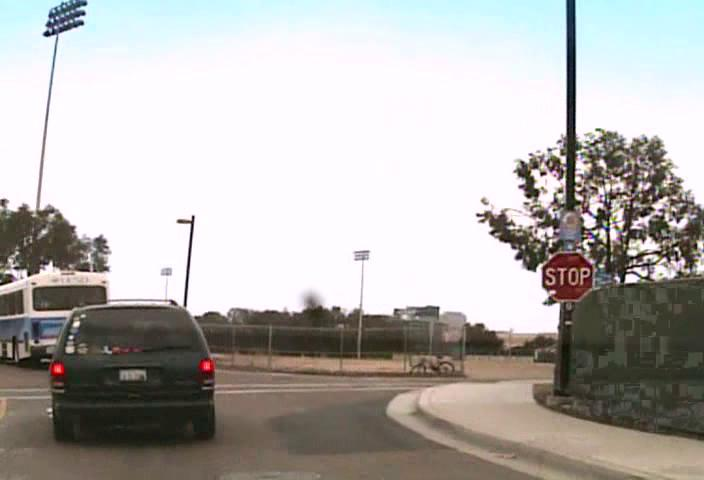stop: (540, 250, 594, 301)
